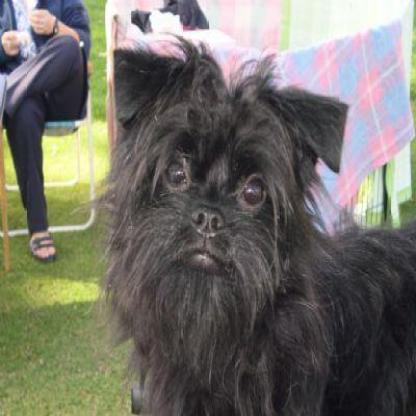affenpinscher: (81, 29, 414, 413)
